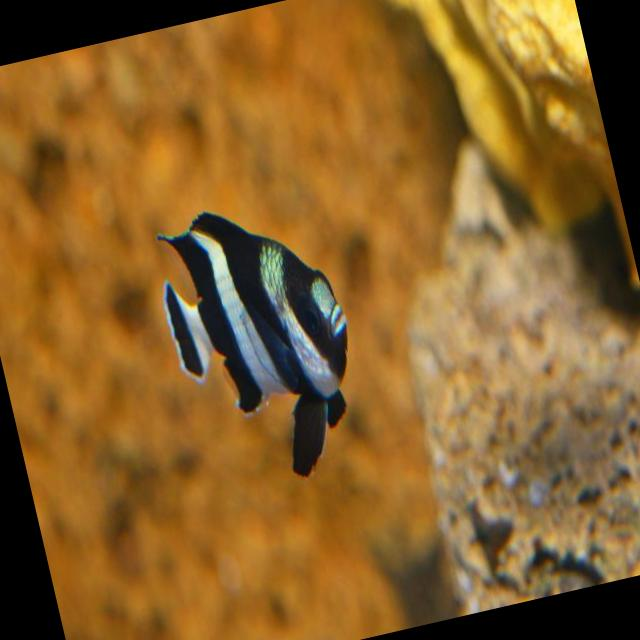Three_striped DasmselFish: (139, 186, 384, 507)
